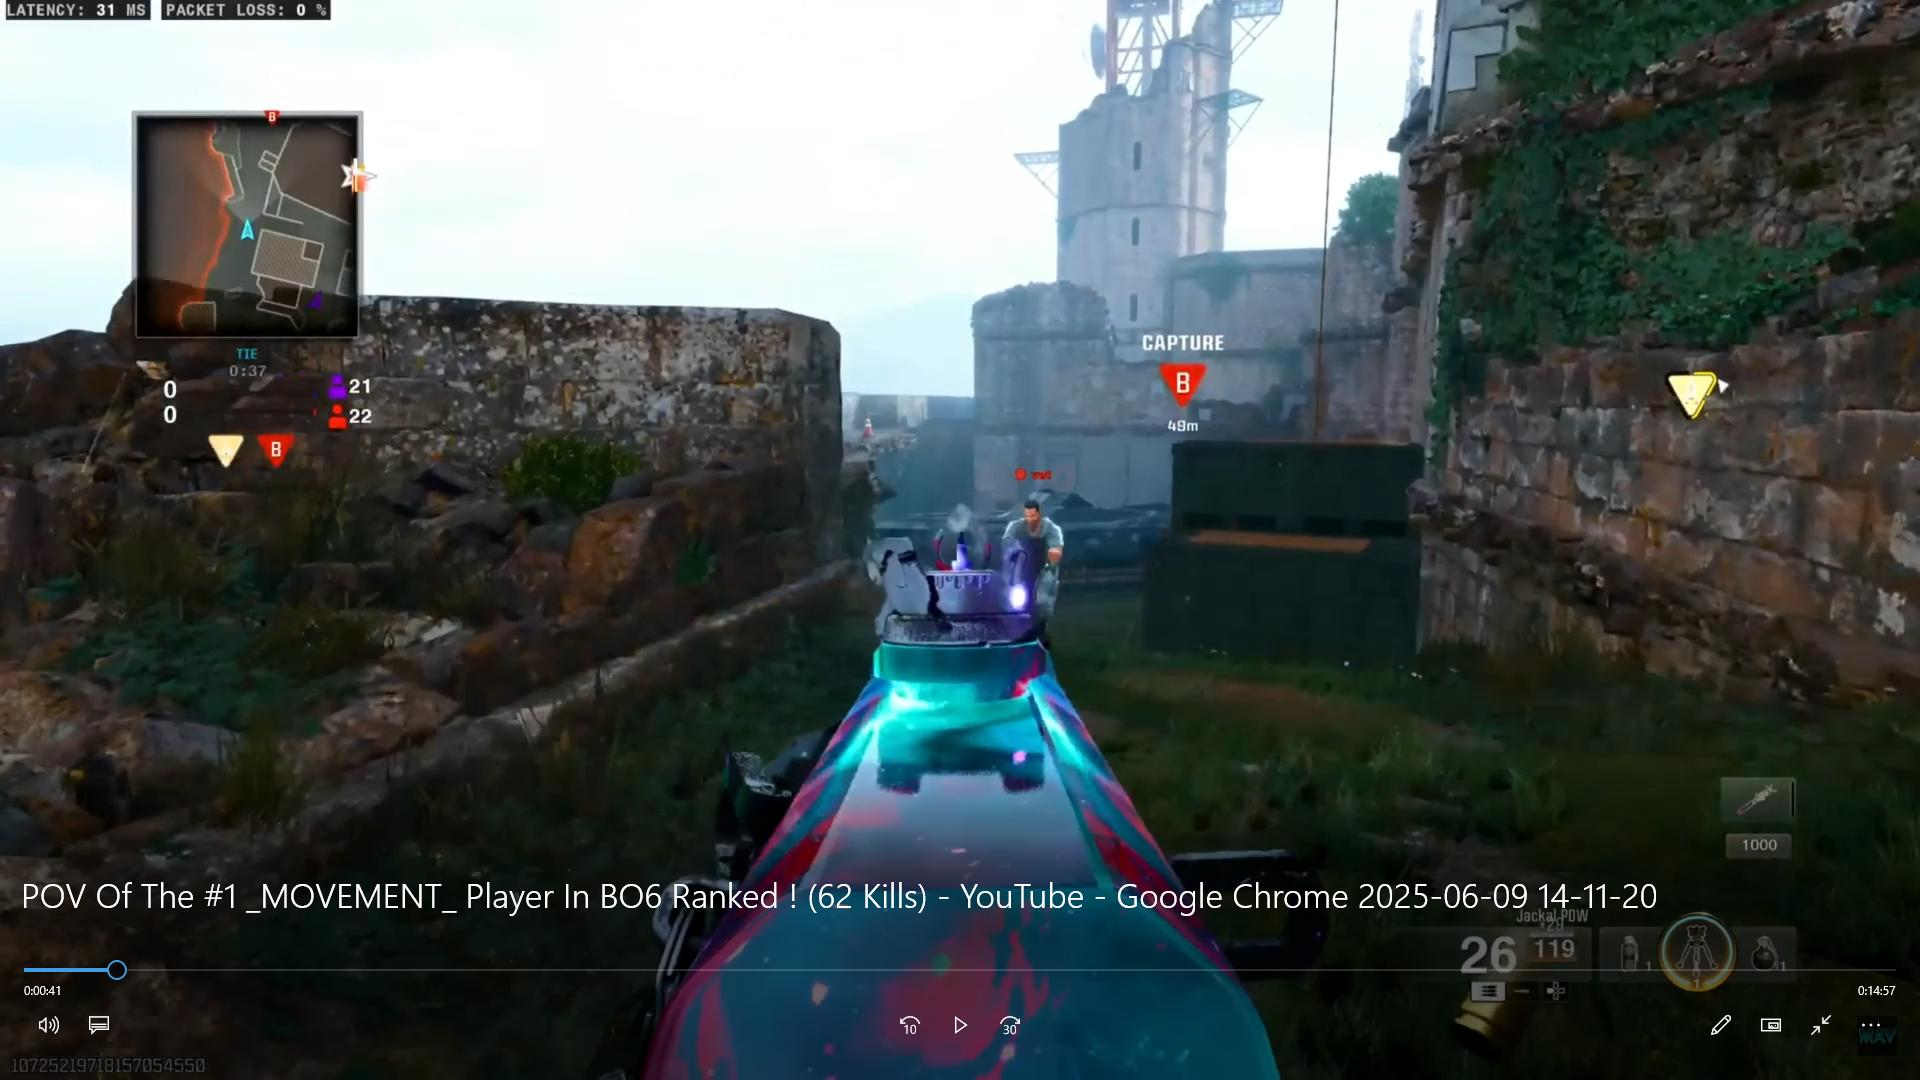Enemy: (1005, 491, 1058, 555)
